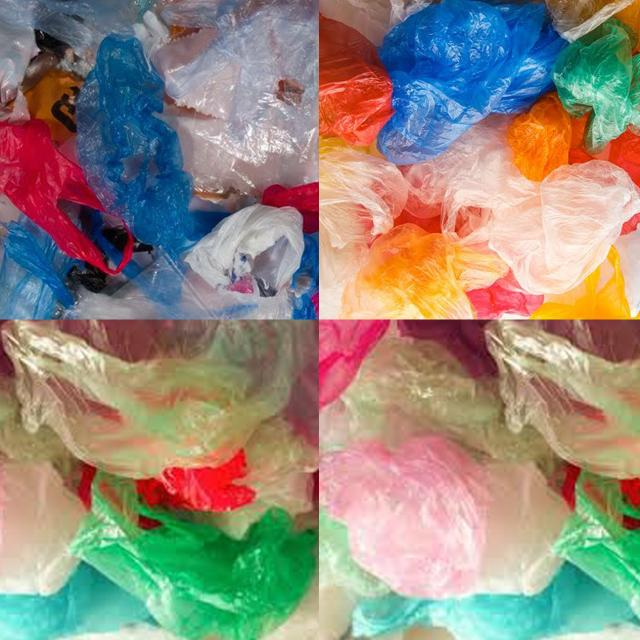plastik: (2, 321, 316, 479), (405, 115, 640, 294), (71, 472, 318, 640), (152, 0, 318, 211), (320, 329, 553, 468), (378, 0, 567, 165), (319, 431, 491, 598), (76, 36, 195, 256), (486, 321, 640, 479), (353, 563, 640, 640), (0, 120, 133, 275), (319, 138, 409, 318), (340, 223, 507, 318), (191, 416, 318, 539), (554, 471, 640, 618), (474, 462, 569, 594), (0, 562, 157, 640), (550, 19, 640, 155), (0, 457, 85, 595), (185, 204, 304, 298), (319, 16, 394, 146), (0, 216, 78, 319), (506, 92, 593, 182), (531, 247, 631, 319)
